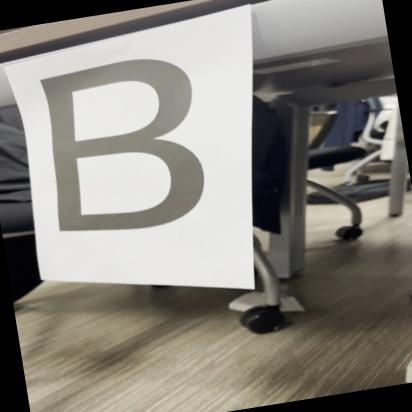seat: (18, 41, 224, 255)
